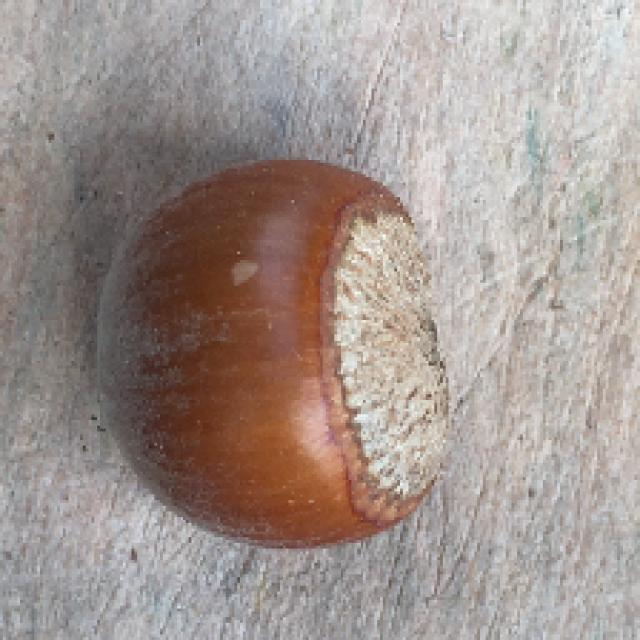qualityHazelnut: (94, 158, 460, 556)
